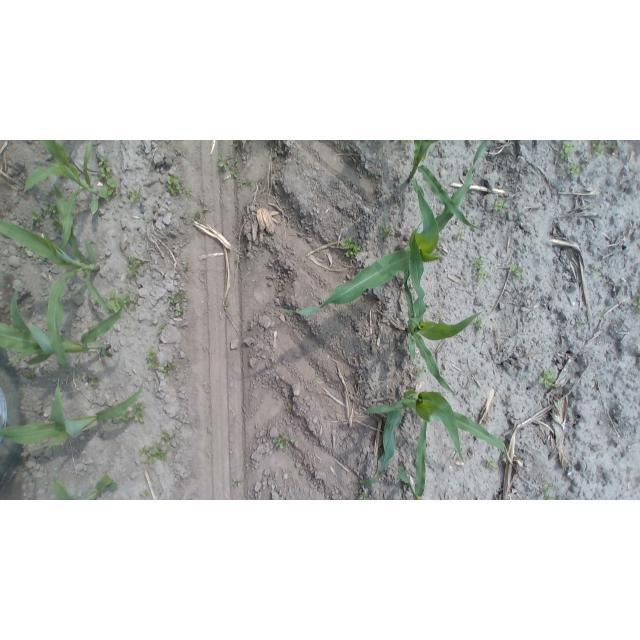Maize: (278, 141, 488, 318), (1, 186, 112, 370), (363, 391, 512, 500), (402, 217, 486, 396), (0, 278, 124, 367), (0, 376, 144, 452), (23, 140, 105, 252), (406, 141, 487, 235), (52, 473, 119, 500)
Weeds: (164, 174, 194, 198), (42, 200, 64, 232), (138, 445, 170, 466), (100, 290, 125, 314), (537, 367, 561, 391), (168, 288, 188, 316), (339, 236, 362, 259), (273, 430, 298, 451), (470, 255, 488, 284), (97, 157, 117, 182), (91, 191, 113, 213), (125, 256, 145, 278), (559, 140, 577, 162), (145, 346, 160, 371), (541, 478, 558, 500), (131, 402, 147, 425), (101, 177, 120, 196), (565, 161, 583, 181), (492, 198, 512, 215), (217, 154, 237, 170), (124, 292, 140, 312), (589, 141, 607, 158), (192, 210, 209, 227), (128, 185, 144, 203), (509, 263, 524, 281), (160, 361, 177, 376), (29, 211, 43, 229), (352, 489, 376, 499), (380, 222, 394, 239), (159, 428, 175, 442), (118, 410, 131, 425), (475, 315, 486, 332), (630, 293, 638, 316), (454, 228, 466, 243), (88, 376, 102, 388), (591, 265, 604, 277), (485, 458, 497, 471), (24, 369, 38, 380), (230, 477, 244, 488), (154, 322, 166, 334), (414, 365, 426, 376), (138, 489, 151, 499), (222, 300, 231, 312), (229, 170, 239, 180), (236, 254, 245, 264), (577, 320, 587, 329), (241, 178, 252, 186), (598, 312, 607, 321), (432, 310, 441, 319), (182, 261, 190, 271), (288, 452, 297, 460), (610, 144, 619, 152), (75, 372, 82, 379)
